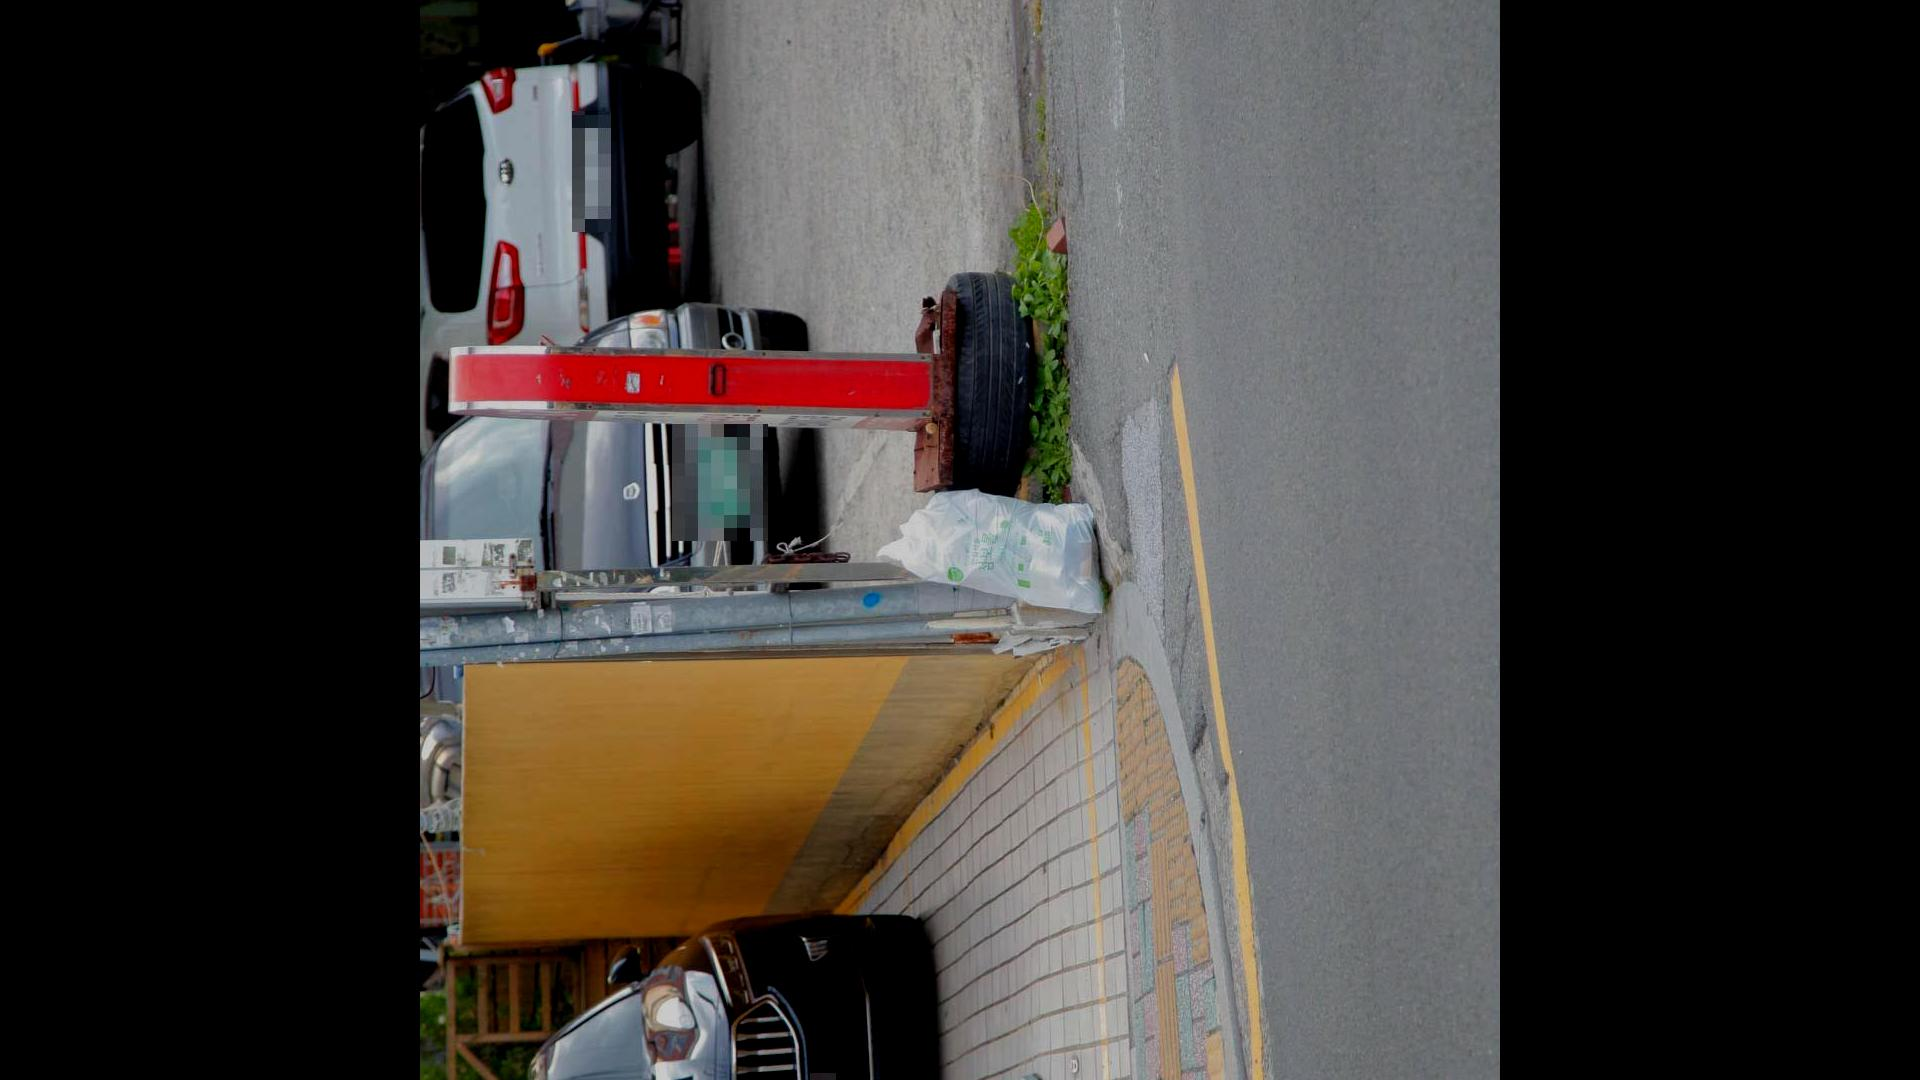white_bag: (860, 477, 1106, 622)
